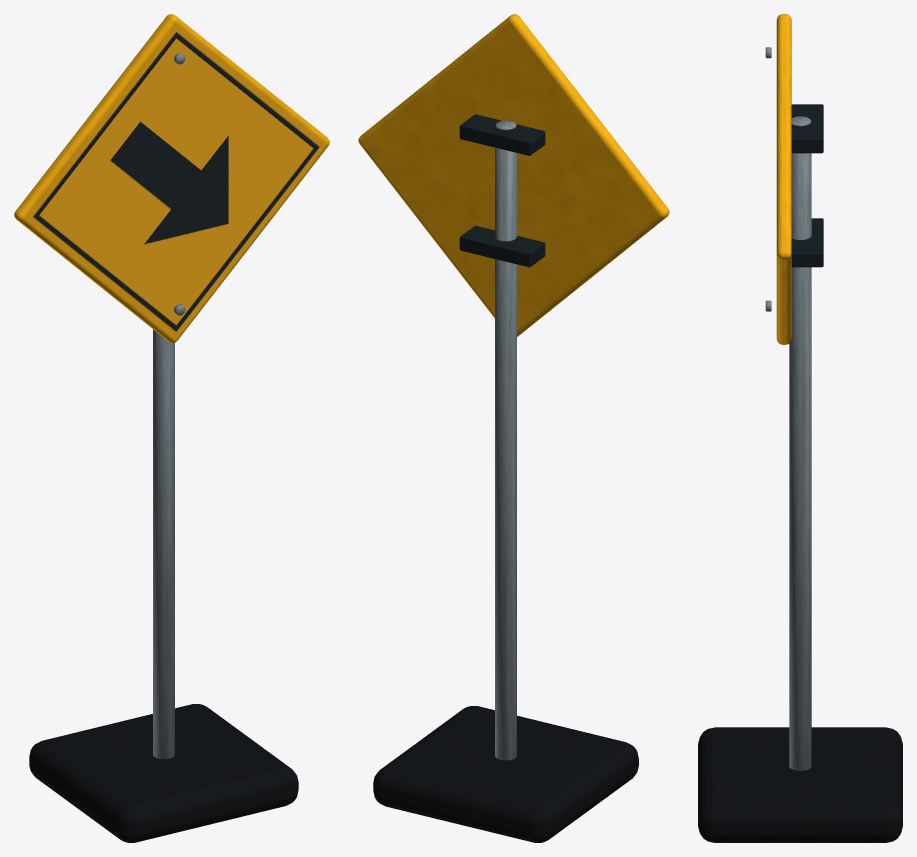
File: CSE_RoadSign.fbx
3 renders of one model, left to right at view 1: azimuth 30°, elevation 25°; view 2: azimuth 150°, elevation 25°; view 3: azimuth 270°, elevation 25°, orthographic. The views are drawn at different scales.
Visible parts, largest first — view 1: CSE_RoadSign; view 2: CSE_RoadSign; view 3: CSE_RoadSign.
Part boxes in pixels (x1,y1,x2,y2): CSE_RoadSign: [14, 14, 329, 842]; CSE_RoadSign: [358, 14, 669, 842]; CSE_RoadSign: [698, 14, 902, 842].
Size of the model in its own units: 78.14 by 187 by 44.
